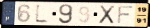6: (17, 4, 32, 24)
9: (58, 3, 74, 25), (78, 5, 92, 24)
F: (116, 5, 135, 25)
L: (34, 3, 51, 25)
X: (98, 5, 117, 25)
